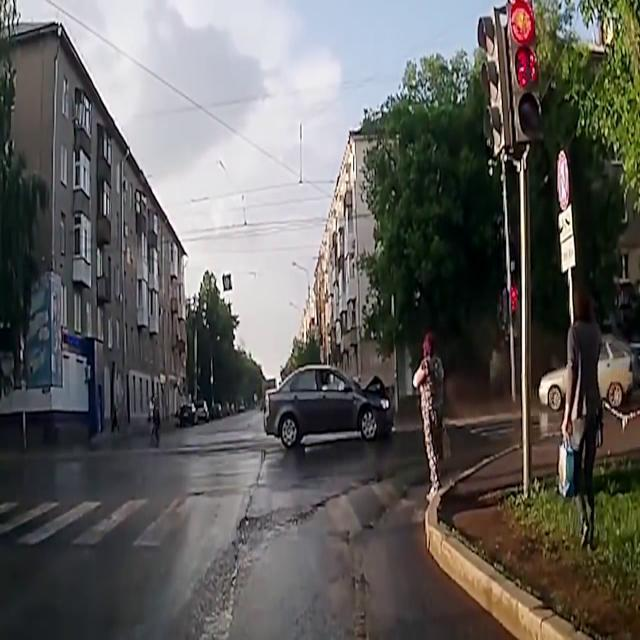accident: (262, 364, 392, 452)
